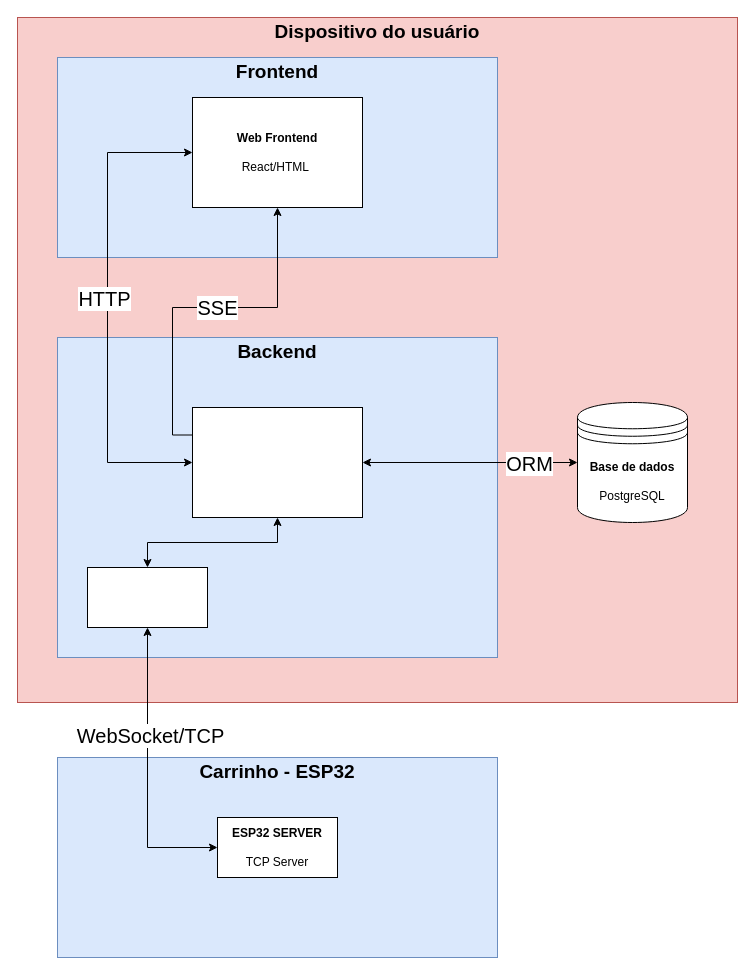
This 755x975 diagram has some shape labels left out. Here are the shapes that lost their labels. From the top down, the centre of each, then its label:
At point 277,462: "REST API FastAPI".
At point 147,597: "ESP32 SERVICE TCP Client".
